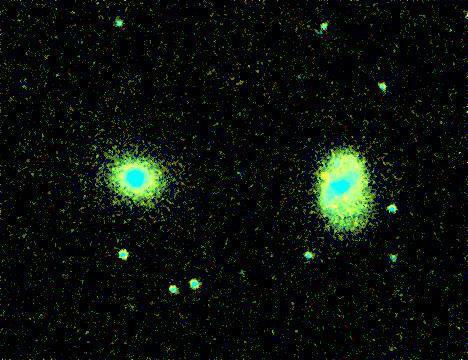star: (311, 159, 341, 189)
